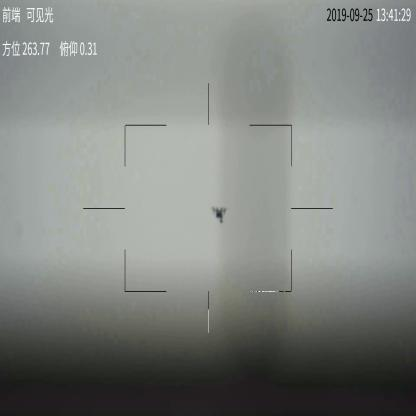uav: (211, 205, 231, 226)
